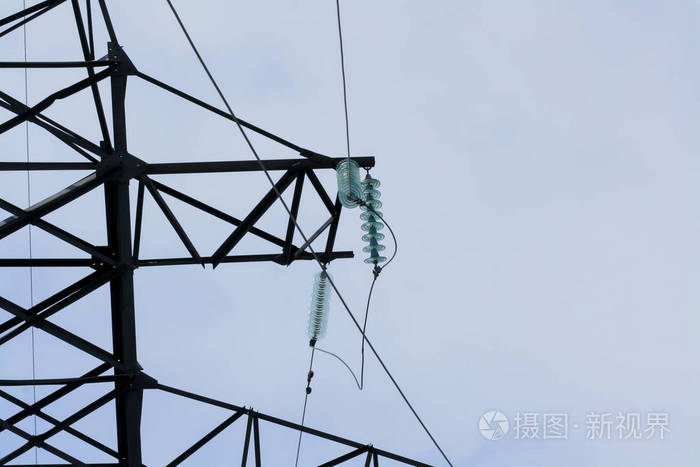insulator: (360, 178, 388, 264), (306, 269, 334, 343), (336, 158, 360, 207)
